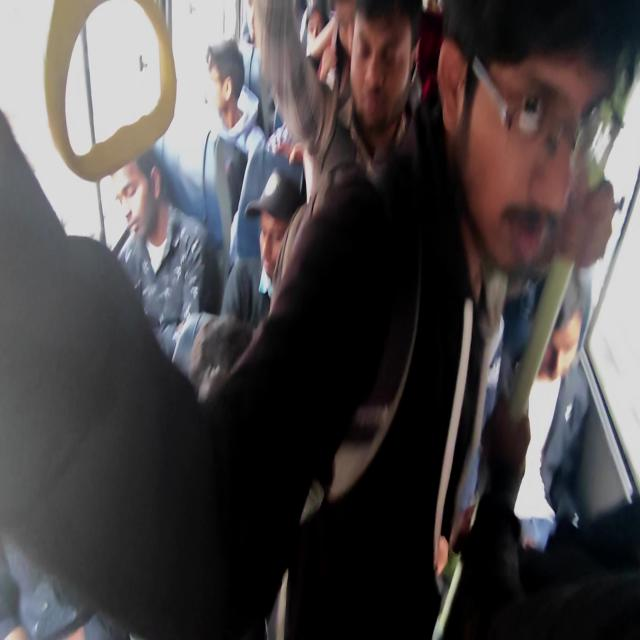person: (453, 9, 611, 278), (187, 345, 266, 478), (252, 166, 308, 302), (357, 2, 413, 118), (112, 140, 164, 252), (538, 297, 584, 385), (210, 44, 250, 130), (330, 6, 364, 82), (246, 3, 269, 53), (308, 1, 328, 54)
